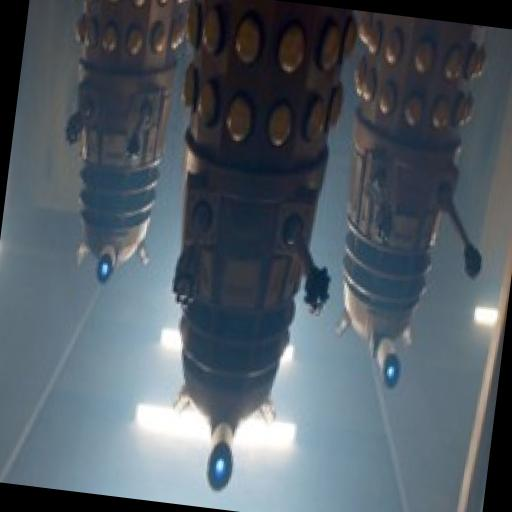dalek: (130, 0, 371, 505), (315, 11, 512, 398), (34, 0, 193, 289)
